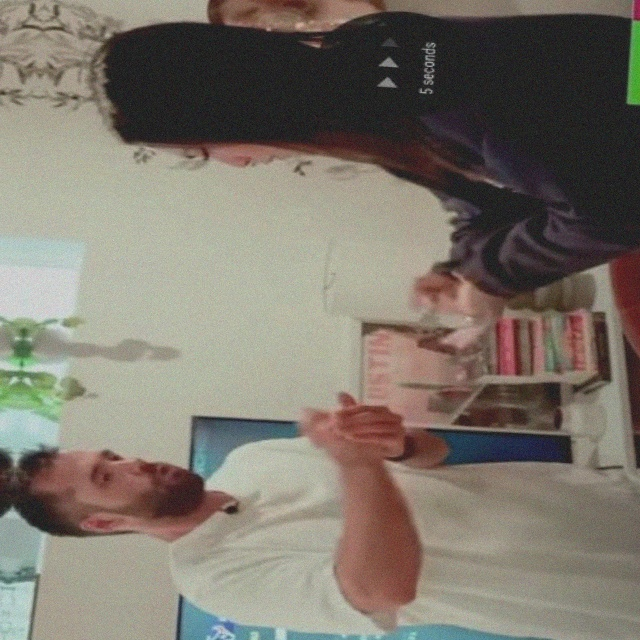Rock: (293, 405, 395, 464), (403, 272, 469, 316)
